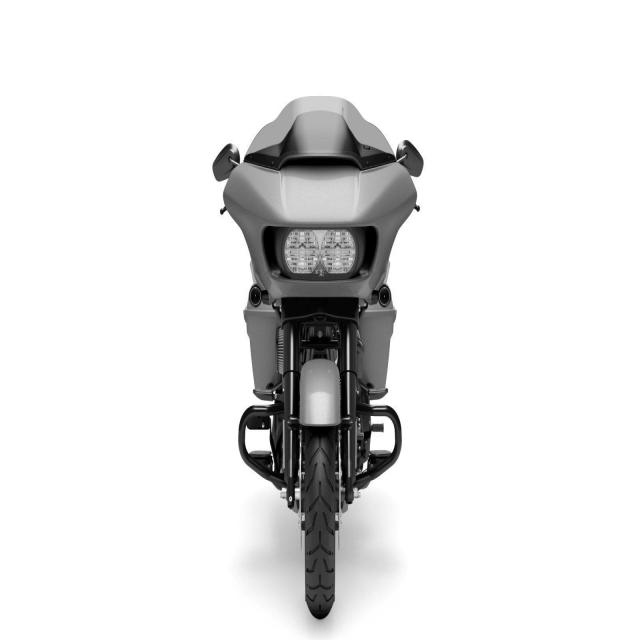Motorcycle: (212, 95, 424, 618)
